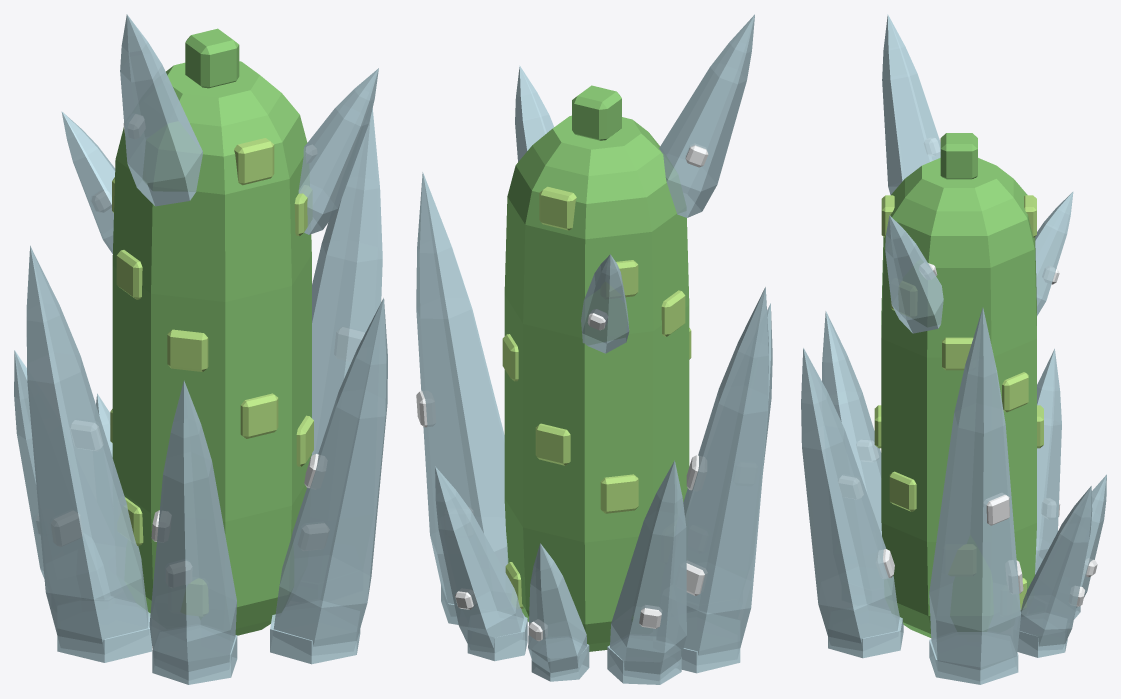
The model's file is SnowCrystalCucumber.fbx.
The picture shows the model from 3 angles, left to right: view 1: azimuth 30°, elevation 25°; view 2: azimuth 150°, elevation 25°; view 3: azimuth 270°, elevation 25°; orthographic projection. The views are drawn at different scales.
Visible parts, largest first — view 1: SnowCrystalCucumber.Crystals, SnowCrystalCucumber.Body, SnowCrystalCucumber.Studs, SnowCrystalCucumber.CrystalStuds; view 2: SnowCrystalCucumber.Crystals, SnowCrystalCucumber.Body, SnowCrystalCucumber.Studs, SnowCrystalCucumber.CrystalStuds; view 3: SnowCrystalCucumber.Crystals, SnowCrystalCucumber.Body, SnowCrystalCucumber.Studs, SnowCrystalCucumber.CrystalStuds.
Part boxes in pixels (box(x1,y1,x2,y2)): SnowCrystalCucumber.Crystals: box(14, 14, 387, 684); SnowCrystalCucumber.Body: box(112, 28, 311, 635); SnowCrystalCucumber.Studs: box(110, 138, 313, 616); SnowCrystalCucumber.CrystalStuds: box(36, 114, 364, 587); SnowCrystalCucumber.Crystals: box(416, 14, 772, 684); SnowCrystalCucumber.Body: box(504, 85, 689, 651); SnowCrystalCucumber.Studs: box(502, 186, 691, 608); SnowCrystalCucumber.CrystalStuds: box(416, 144, 708, 641); SnowCrystalCucumber.Crystals: box(801, 14, 1106, 684); SnowCrystalCucumber.Body: box(881, 133, 1036, 637); SnowCrystalCucumber.Studs: box(874, 195, 1043, 610); SnowCrystalCucumber.CrystalStuds: box(838, 138, 1097, 606).
Bounding box in the file's own units: 2.86 × 4.94 × 2.47.
